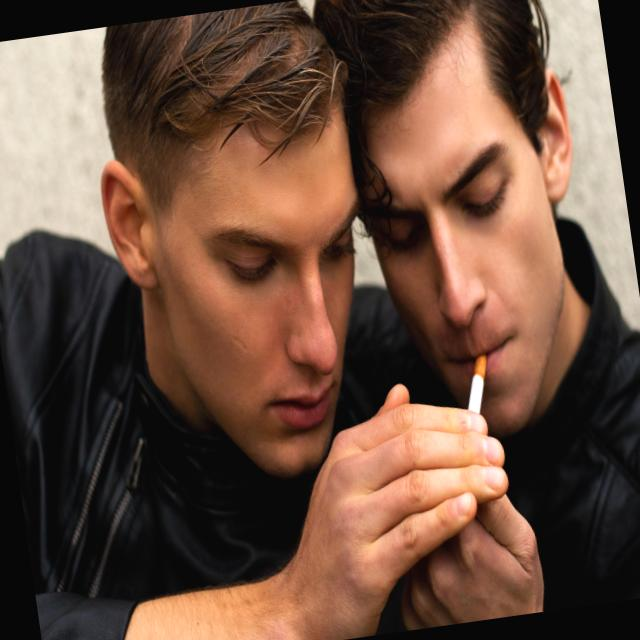cigarette: (458, 342, 518, 450)
